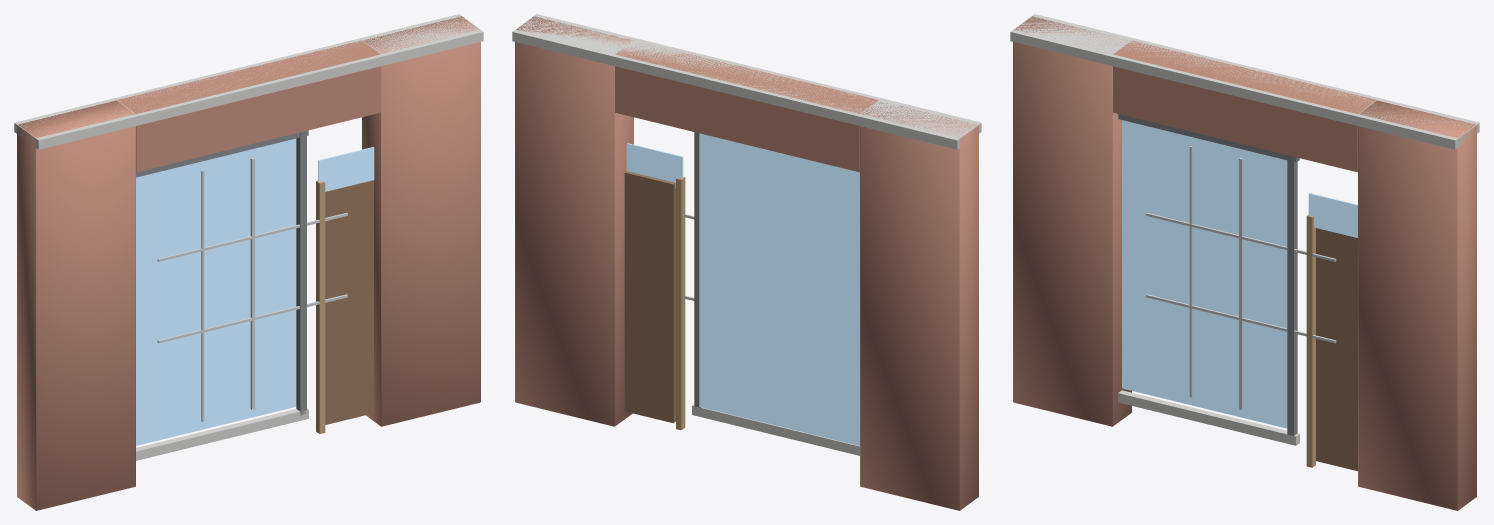
The model's file is Storefront_Glass.fbx.
The picture shows the model from 3 angles, left to right: view 1: azimuth 30°, elevation 25°; view 2: azimuth 150°, elevation 25°; view 3: azimuth 330°, elevation 25°; orthographic projection.
Parts seen in each view (by area): view 1: LOD0; view 2: LOD0; view 3: LOD0.
Boxes of the visible parts, x1,y1,x2,y2 form: LOD0: (14, 14, 483, 510); LOD0: (512, 14, 981, 510); LOD0: (1010, 14, 1479, 510).
Size of what is drawn, in the model's own units: 400 by 320 by 38.
